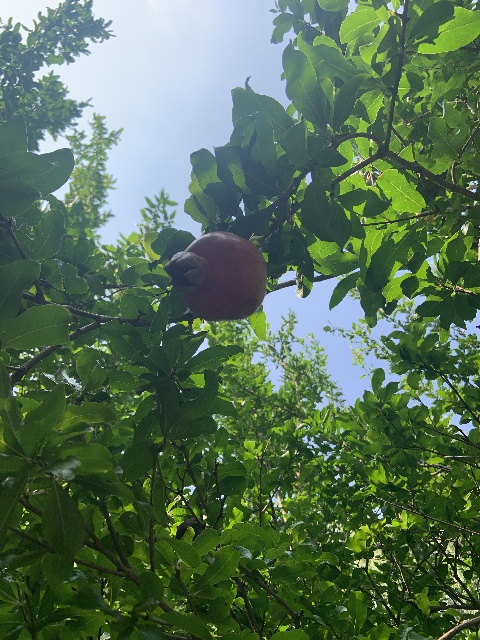ripe: (174, 231, 267, 320)
